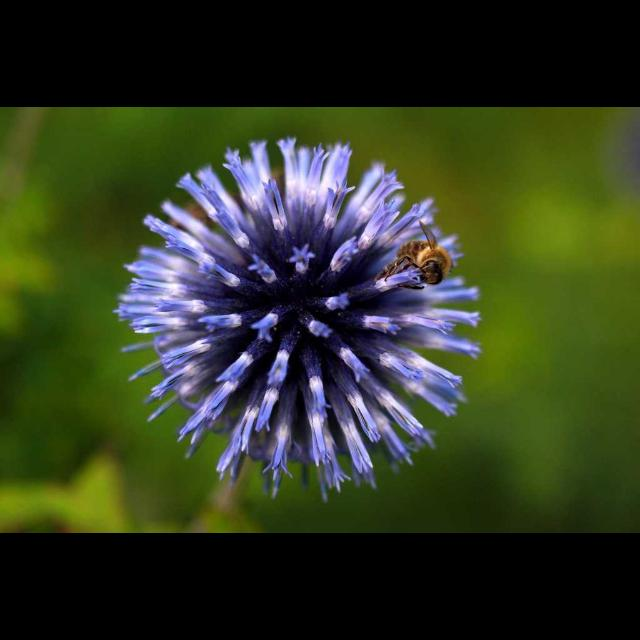Flower: (96, 141, 492, 505)
